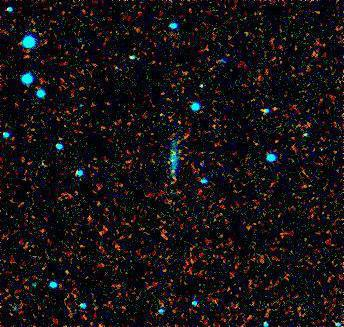star: (261, 94, 291, 124)
